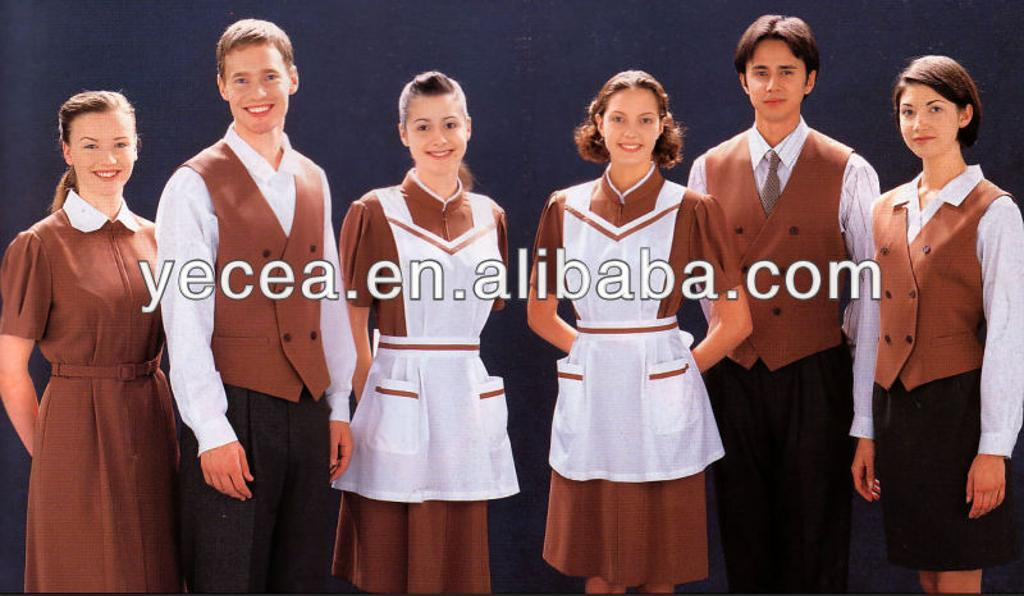face: (220, 34, 288, 132), (68, 108, 138, 192), (742, 34, 808, 116), (408, 88, 466, 176), (898, 78, 958, 158), (600, 86, 658, 166)
